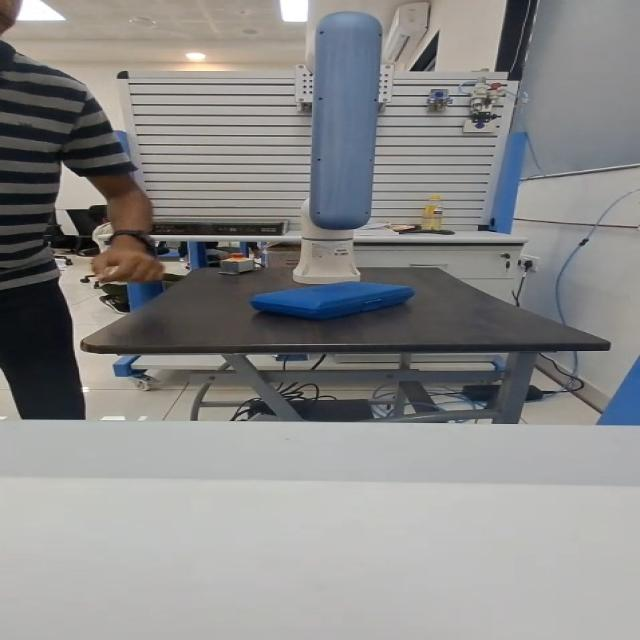top-surface: (280, 282, 388, 299)
